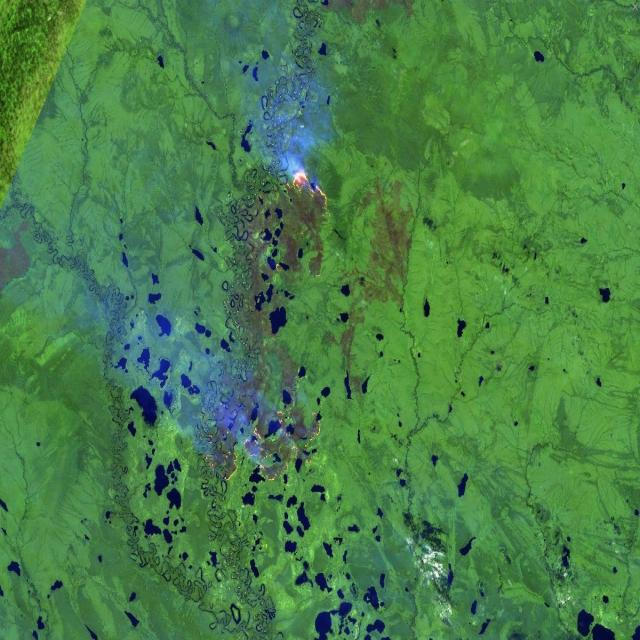fire: (202, 421, 336, 488), (273, 171, 333, 208)
